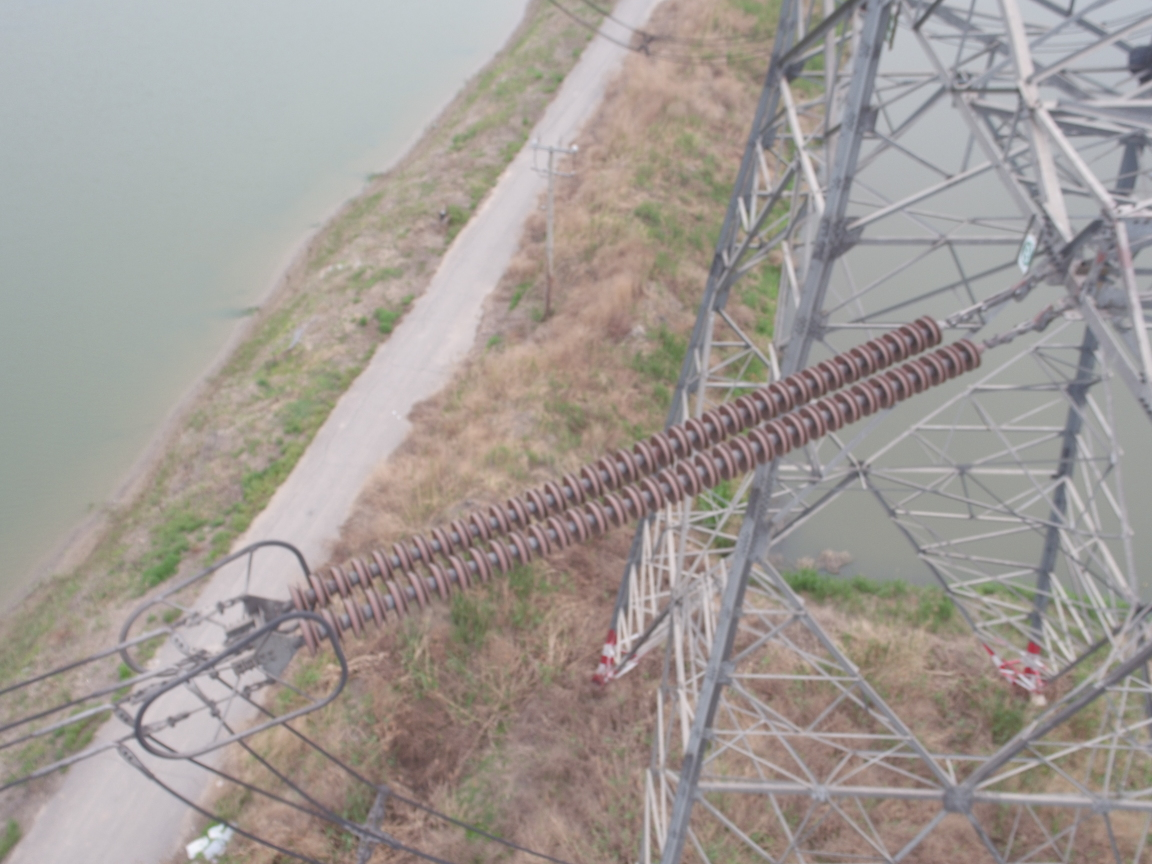insulator: (283, 301, 1003, 657)
